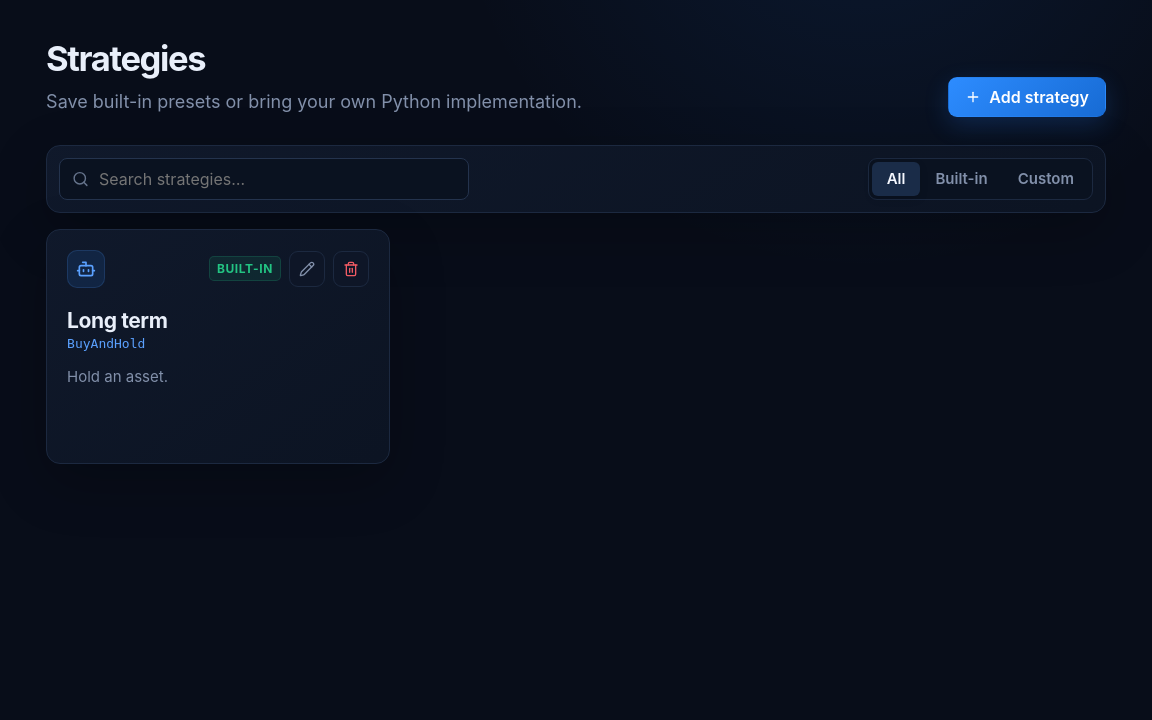
Test: library page › uses the shared titled toggle field for boolean constructor options
Click the button "Add strategy": (1027, 97) [948,77,1106,117]
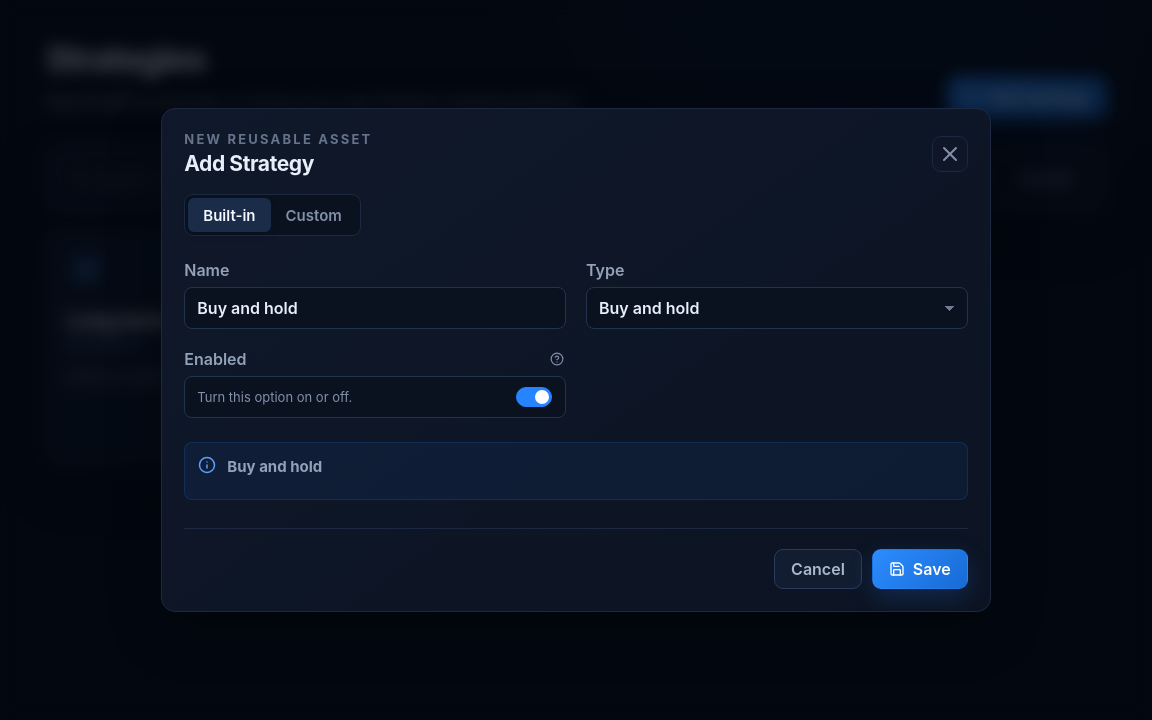
Expected: the text with class "toggle-title" reads "Enabled", [184,349,247,369]
Expected: the button with class "field-info" is shown, [550,352,564,366]
Expected: the text with class "toggle-description" reads "Turn this option on or off.", [197,389,352,405]
